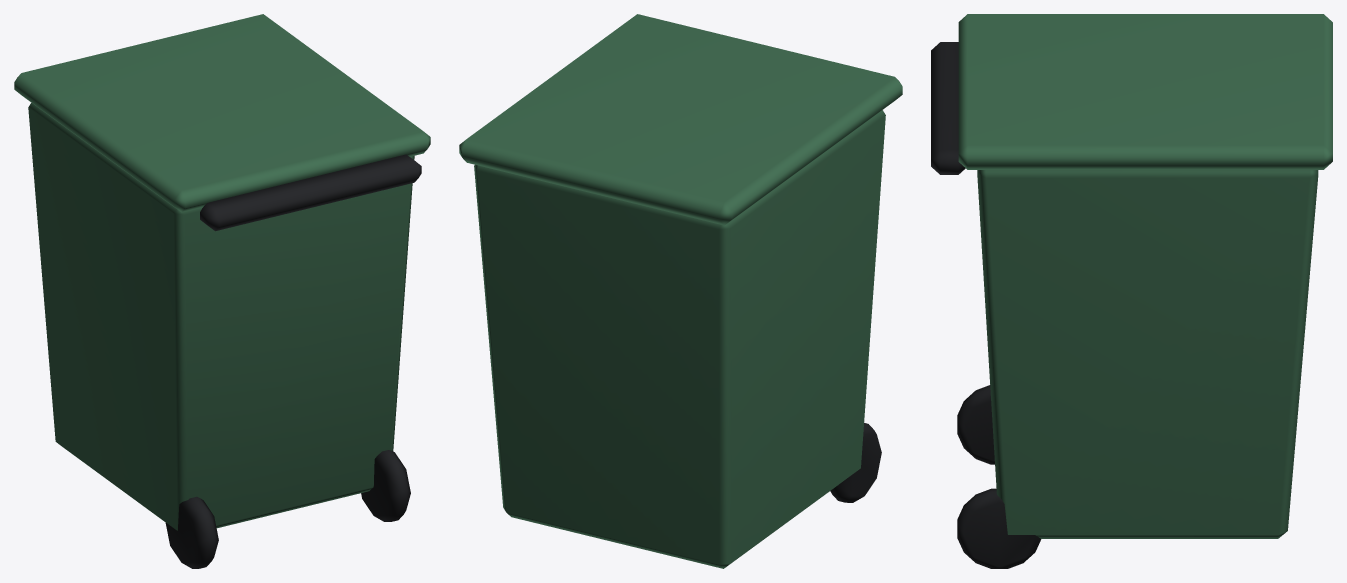
Rendered from wheelie_bin.glb.
3 renders of one model, left to right at view 1: azimuth 30°, elevation 25°; view 2: azimuth 150°, elevation 25°; view 3: azimuth 270°, elevation 25°, orthographic. The views are drawn at different scales.
Parts seen in each view (by area): view 1: Body; view 2: Body; view 3: Body.
Boxes of the visible parts, x1,y1,x2,y2 form: Body: (14,14,430,568); Body: (459,14,902,568); Body: (931,14,1332,568).
Bounding box in the file's own units: 0.72 × 1.05 × 0.88.
1 material, 1 textured.
